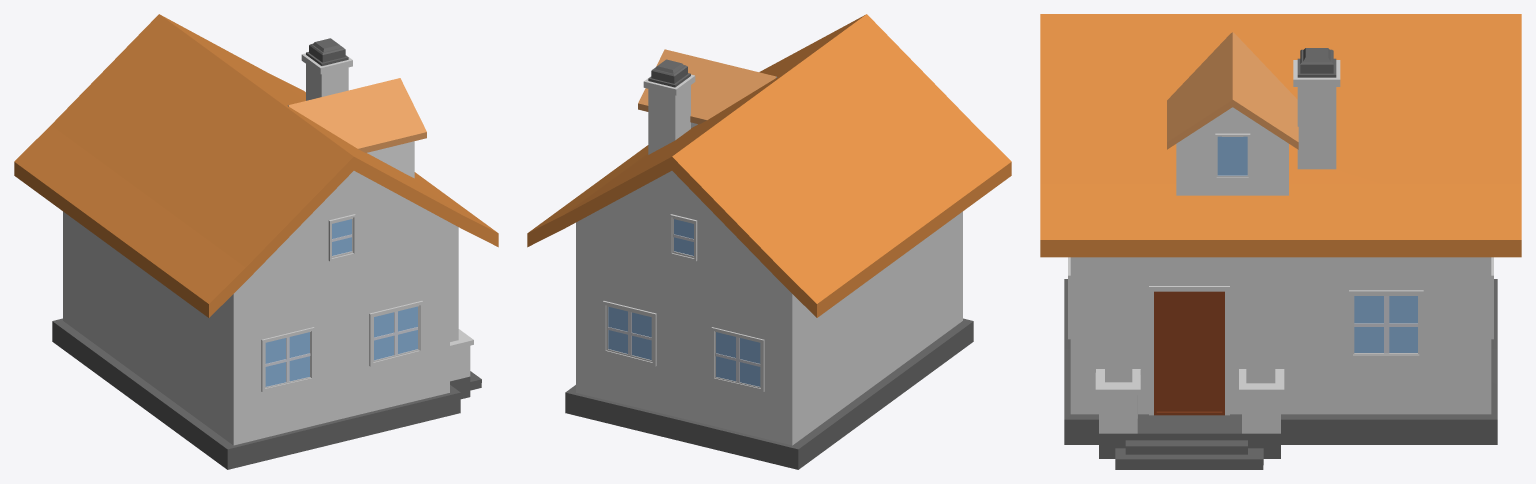
The model's file is house (1).fbx.
3 views of the same model, side by side, from view 1: azimuth 30°, elevation 25°; view 2: azimuth 150°, elevation 25°; view 3: azimuth 270°, elevation 25° (orthographic). The views are drawn at different scales.
Parts seen in each view (by area): view 1: house; view 2: house; view 3: house, door.
Part boxes in pixels (box(x1,y1,x2,y2)): house: box(14, 14, 498, 469); house: box(527, 14, 1011, 469); house: box(1040, 14, 1521, 469); door: box(1154, 291, 1224, 415).
Bounding box in the file's own units: 531 × 506 × 591.
